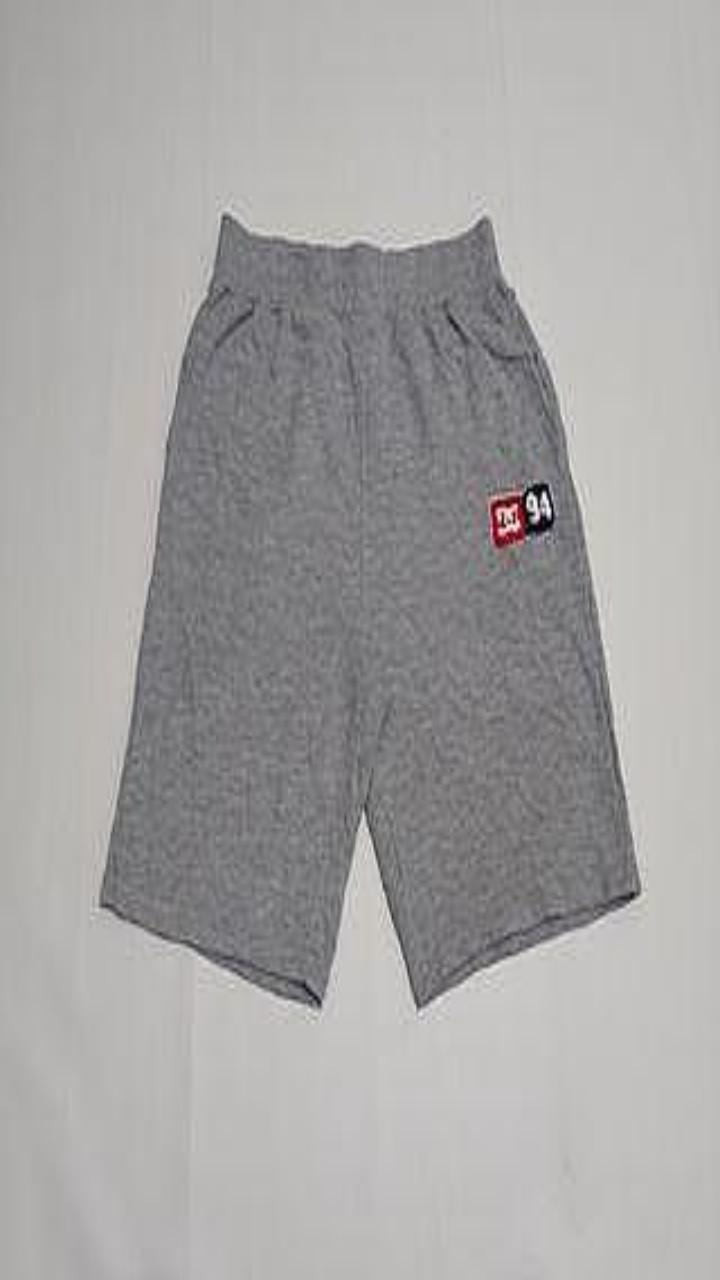Shorts: (100, 213, 639, 1006)
